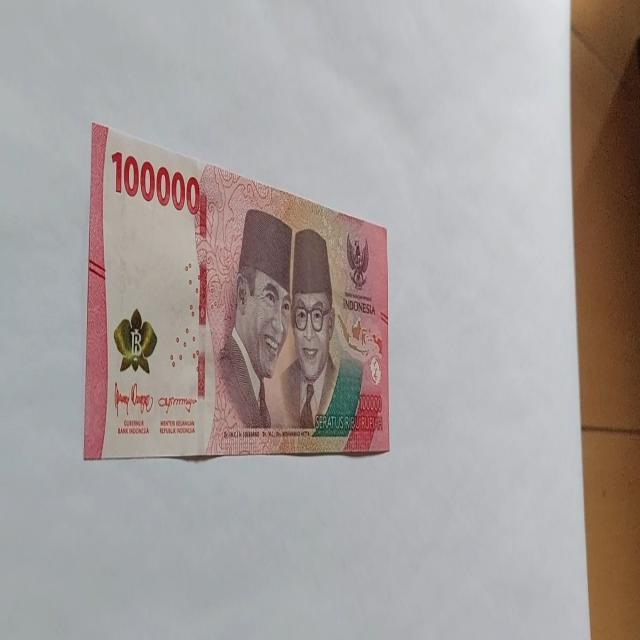seratus ribu rupiah: (83, 120, 391, 462)
